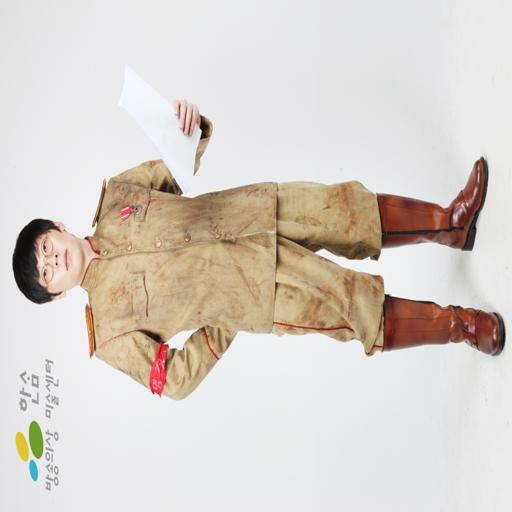north army: (13, 126, 498, 395)
